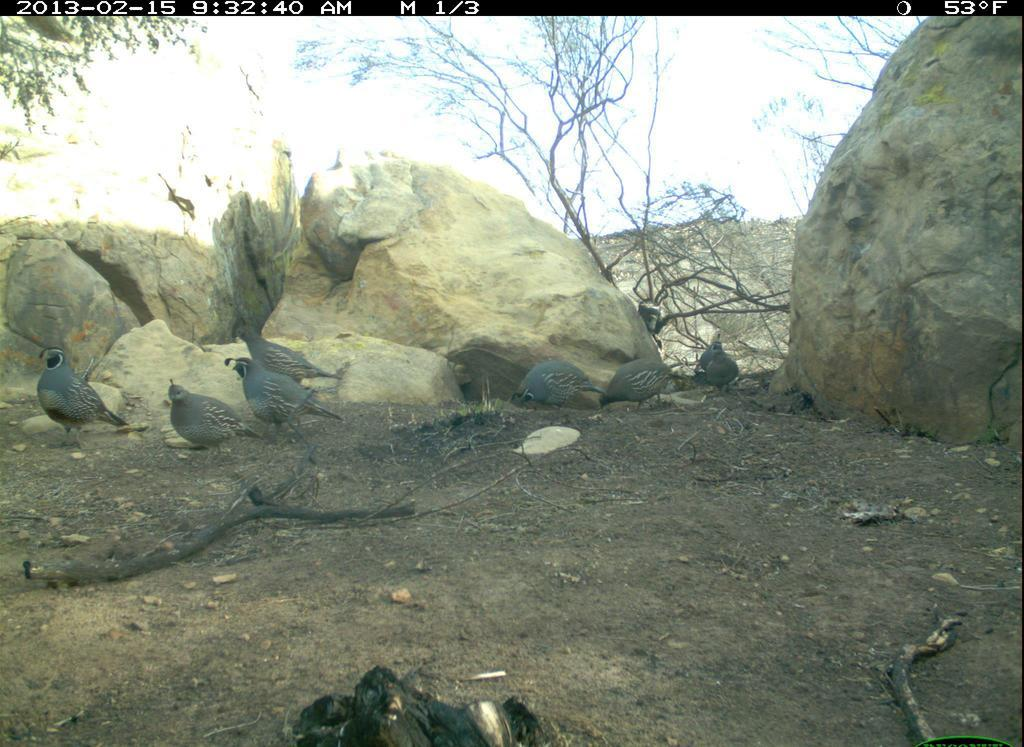bird: (219, 354, 347, 457), (30, 344, 131, 459), (154, 376, 264, 466), (231, 320, 346, 402), (504, 357, 606, 427), (598, 350, 681, 425), (702, 337, 742, 399)
